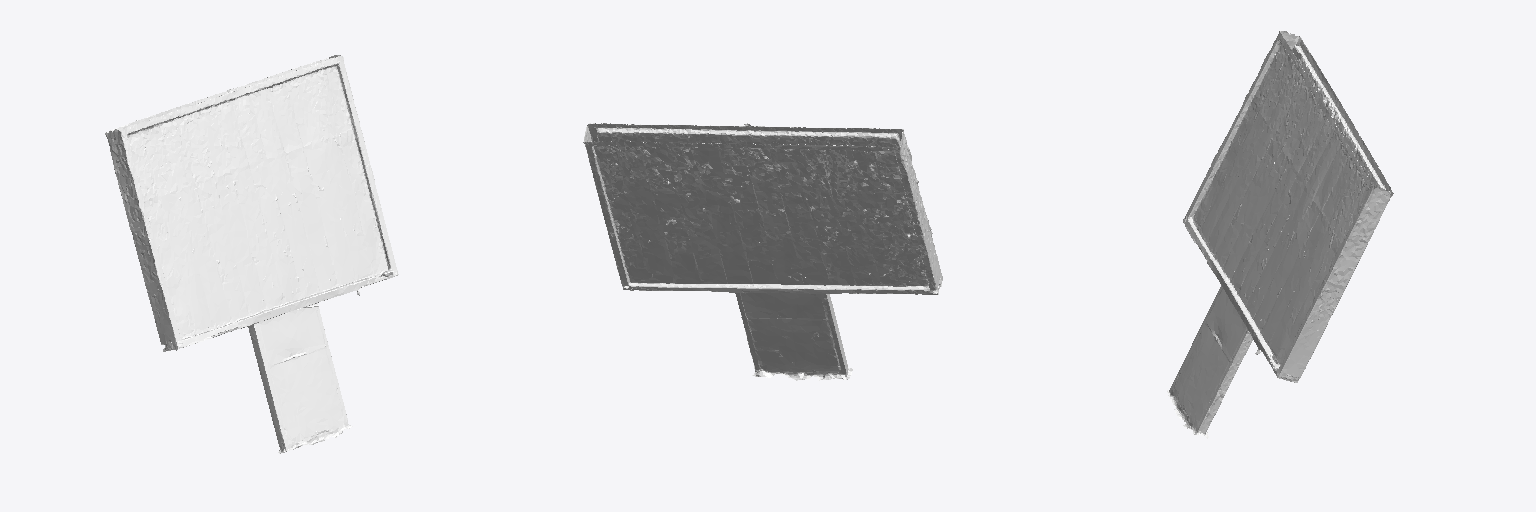
Rendered from low-poly-road-sign.obj.
3 renders of one model, left to right at view 1: azimuth 30°, elevation 25°; view 2: azimuth 150°, elevation 25°; view 3: azimuth 270°, elevation 25°, orthographic.
Bounding box in the file's own units: 18.33 × 19.71 × 12.75.